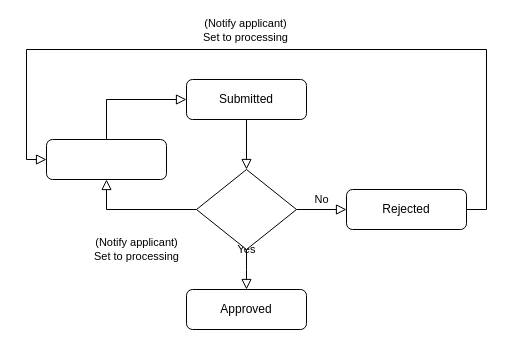
Image size: 514x347. Some labels were removed from this diagram. Each missing label, with the centre of its shape:
Processing: the point at 106,159
Submission OK?: the point at 246,209
